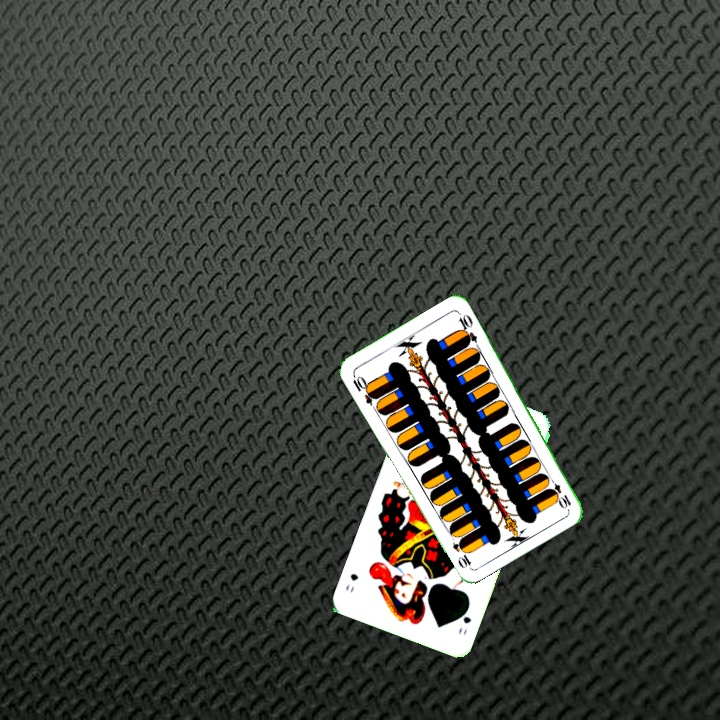E10: (348, 370, 379, 407), (544, 473, 574, 511)
GO: (454, 602, 474, 638)
